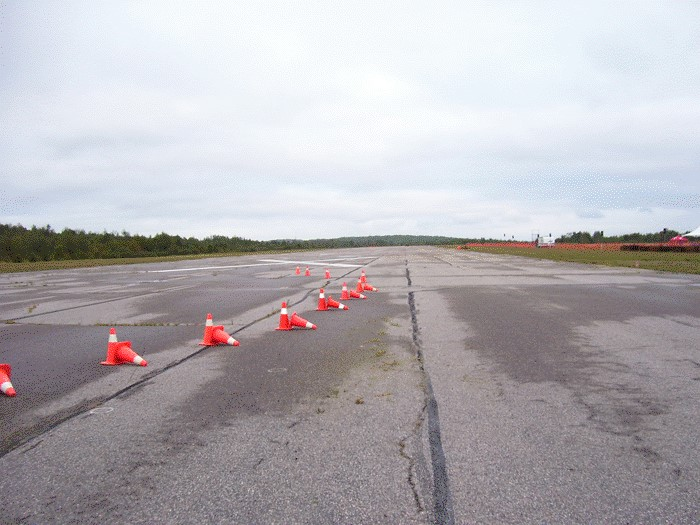cone: (94, 324, 128, 366), (112, 340, 152, 369), (197, 311, 224, 348), (273, 298, 298, 336), (210, 323, 244, 349), (284, 309, 320, 332), (321, 293, 349, 313), (312, 287, 330, 313), (338, 280, 353, 301), (346, 286, 367, 299), (360, 281, 378, 292), (354, 276, 366, 292), (358, 270, 368, 288), (324, 265, 331, 279), (293, 265, 301, 276), (304, 265, 310, 276)
